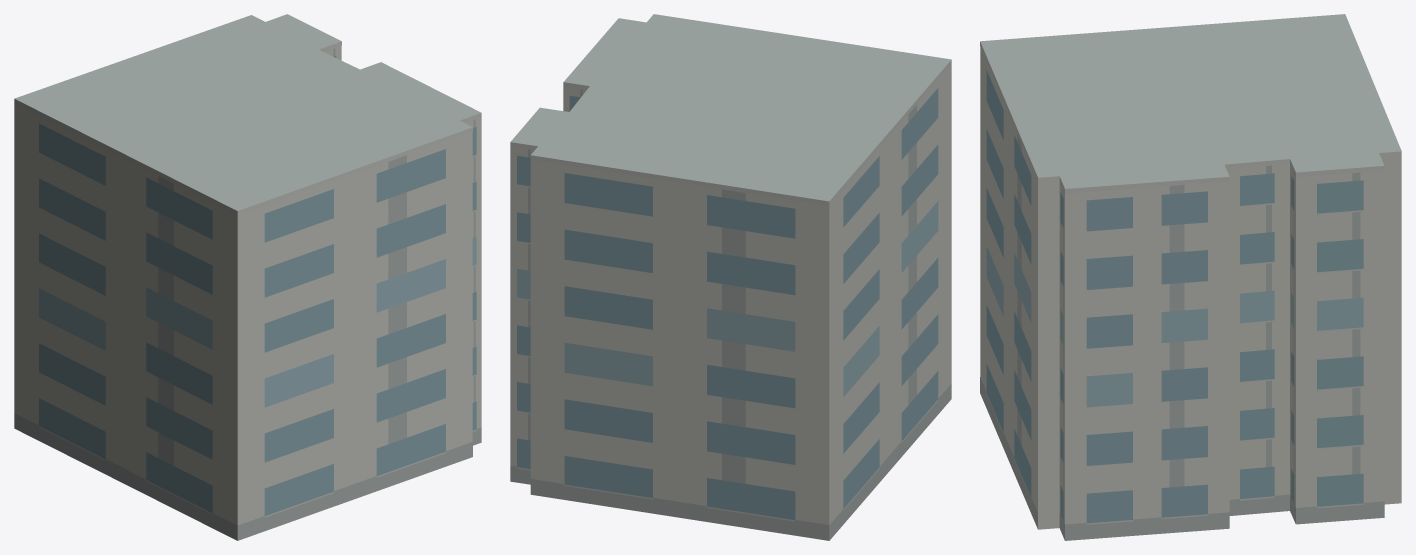
File: survey-upis-32943119.glb
3 renders of one model, left to right at view 1: azimuth 30°, elevation 25°; view 2: azimuth 150°, elevation 25°; view 3: azimuth 270°, elevation 25°, orthographic. The views are drawn at different scales.
Visible parts, largest first — view 1: survey-upis-32943119.tmp; view 2: survey-upis-32943119.tmp; view 3: survey-upis-32943119.tmp.
Boxes of the visible parts, x1,y1,x2,y2 form: survey-upis-32943119.tmp: [14, 14, 481, 540]; survey-upis-32943119.tmp: [510, 14, 951, 540]; survey-upis-32943119.tmp: [980, 14, 1401, 540].
Size of the model in its own units: 19.1 by 17.9 by 19.45.
